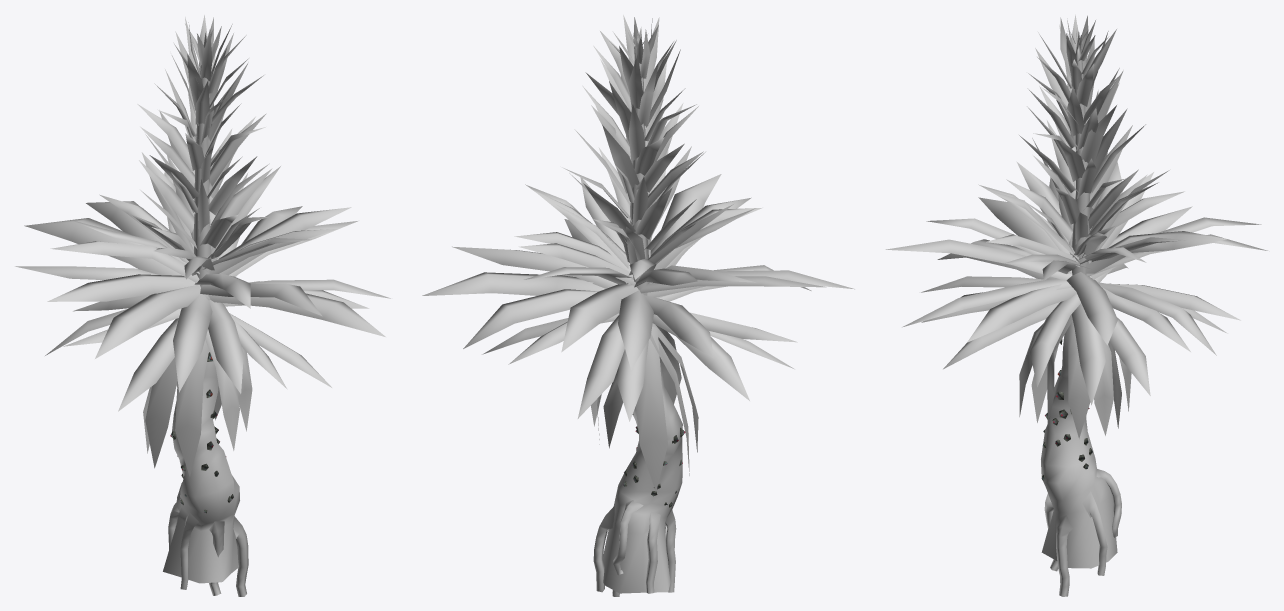
File: Plant15B_L2.fbx
3 renders of one model, left to right at view 1: azimuth 30°, elevation 25°; view 2: azimuth 150°, elevation 25°; view 3: azimuth 270°, elevation 25°, orthographic. The views are drawn at different scales.
Visible parts, largest first — view 1: polySurface1985; view 2: polySurface1985; view 3: polySurface1985.
Boxes of the visible parts, <box> form: polySurface1985: <box>15,15,390,596</box>; polySurface1985: <box>422,15,854,596</box>; polySurface1985: <box>885,14,1267,596</box>.
Size of the model in its own units: 324 by 523 by 325.
